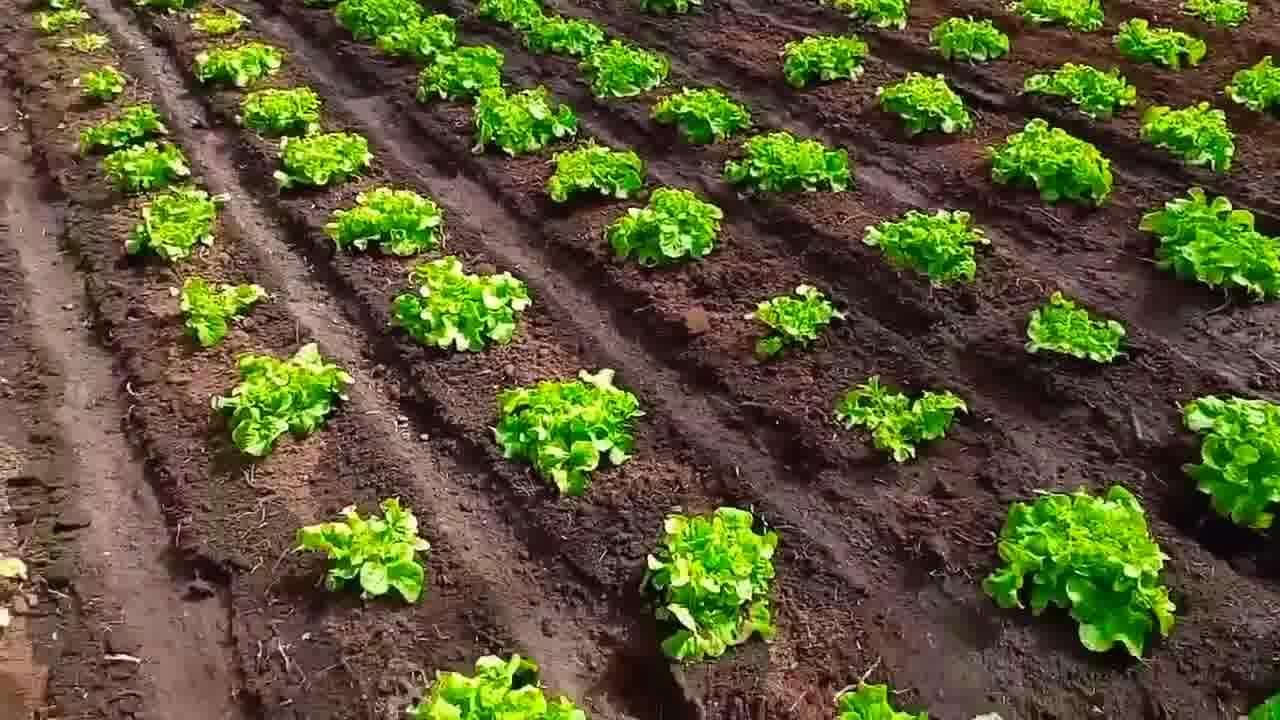Healthy: (995, 487, 1170, 663), (645, 503, 781, 664), (486, 382, 638, 499), (291, 507, 437, 601), (220, 341, 342, 448), (395, 255, 530, 350), (1156, 195, 1277, 293), (399, 658, 585, 720), (1196, 396, 1280, 533), (603, 183, 724, 258), (1000, 125, 1118, 201), (860, 211, 983, 281), (330, 188, 439, 262), (1142, 98, 1237, 174), (183, 278, 276, 348), (728, 133, 848, 186), (551, 135, 647, 201), (129, 189, 213, 260), (881, 72, 976, 132), (647, 83, 744, 141), (1032, 61, 1141, 111), (275, 130, 371, 185), (924, 9, 1015, 61), (588, 43, 669, 99), (81, 103, 167, 153), (105, 142, 193, 189), (825, 684, 936, 720), (786, 34, 861, 83)
